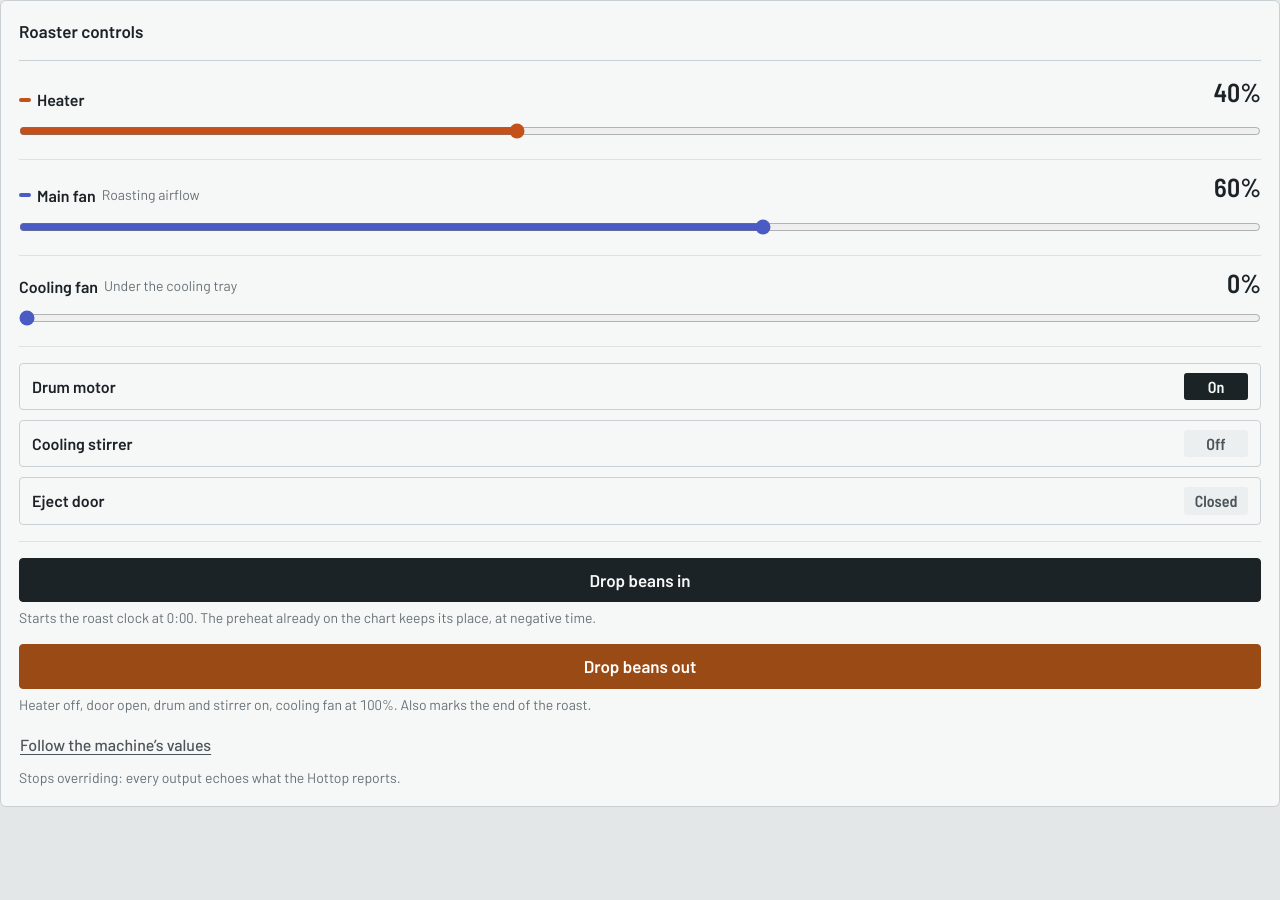
Test: control panel › drops the beans in from beside the controls, then gets out of the way
Click the button "Drop beans in" at (640, 580), box x1=19 y1=558 x2=1261 y2=602
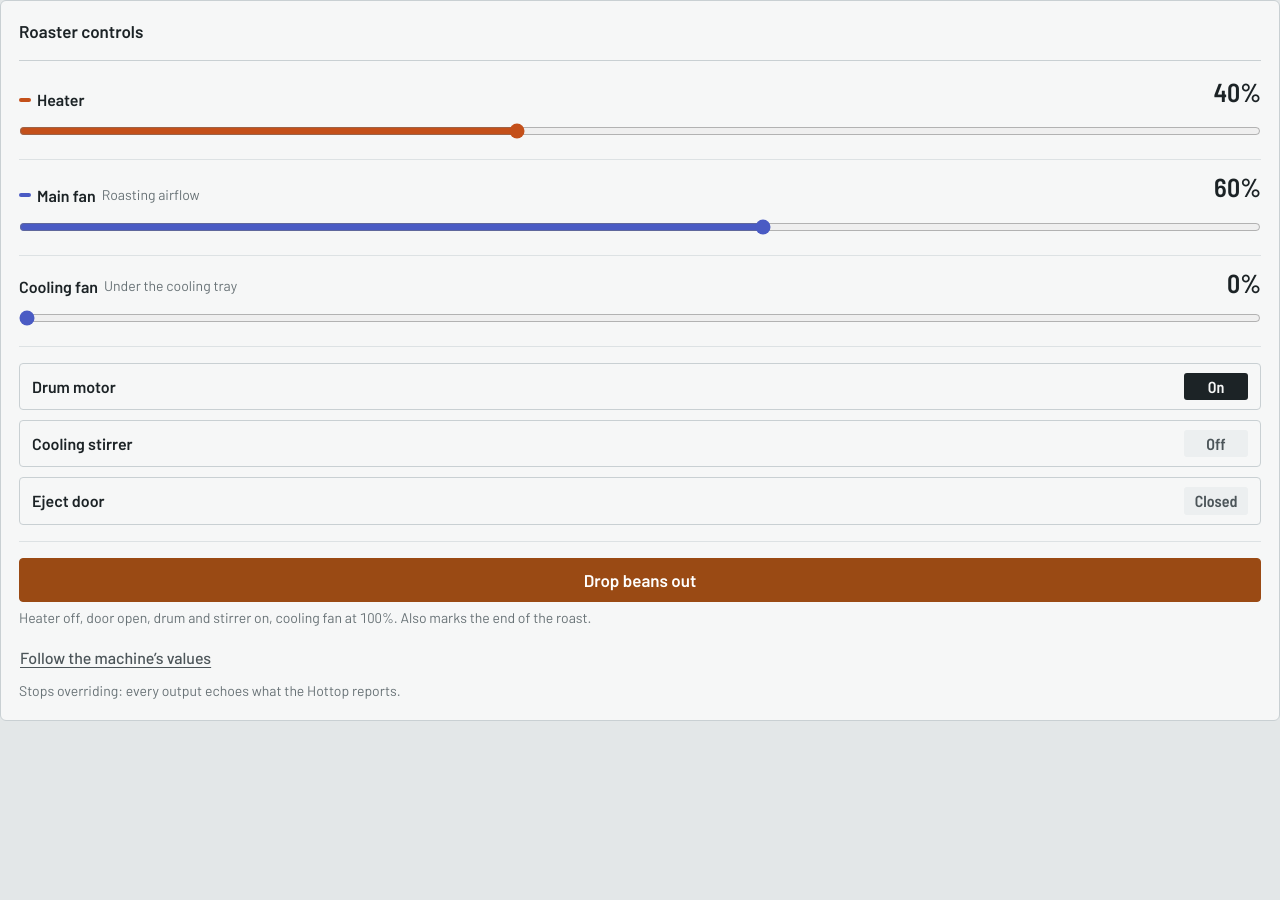
Now the button "Drop beans in" is gone
